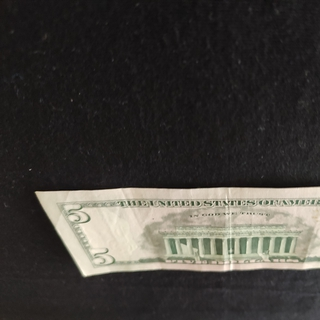5USDBack: (31, 185, 320, 278)
